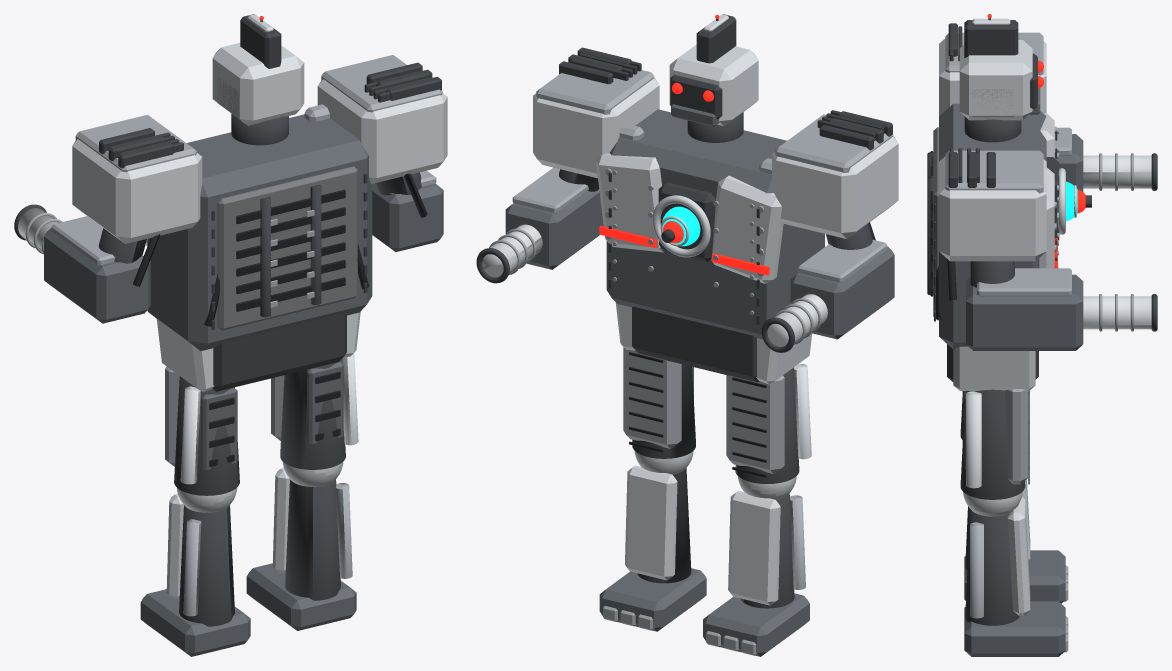
Rendered from boss.glb.
3 renders of one model, left to right at view 1: azimuth 30°, elevation 25°; view 2: azimuth 150°, elevation 25°; view 3: azimuth 270°, elevation 25°, orthographic. The views are drawn at different scales.
Visible parts, largest first — view 1: Boss; view 2: Boss; view 3: Boss.
Boxes of the visible parts, left/top/right/bottom form: Boss: left=14, top=14, right=447, bottom=656; Boss: left=476, top=14, right=898, bottom=656; Boss: left=927, top=14, right=1157, bottom=656.
Bounding box in the file's own units: 2.49 × 4.21 × 1.45.
